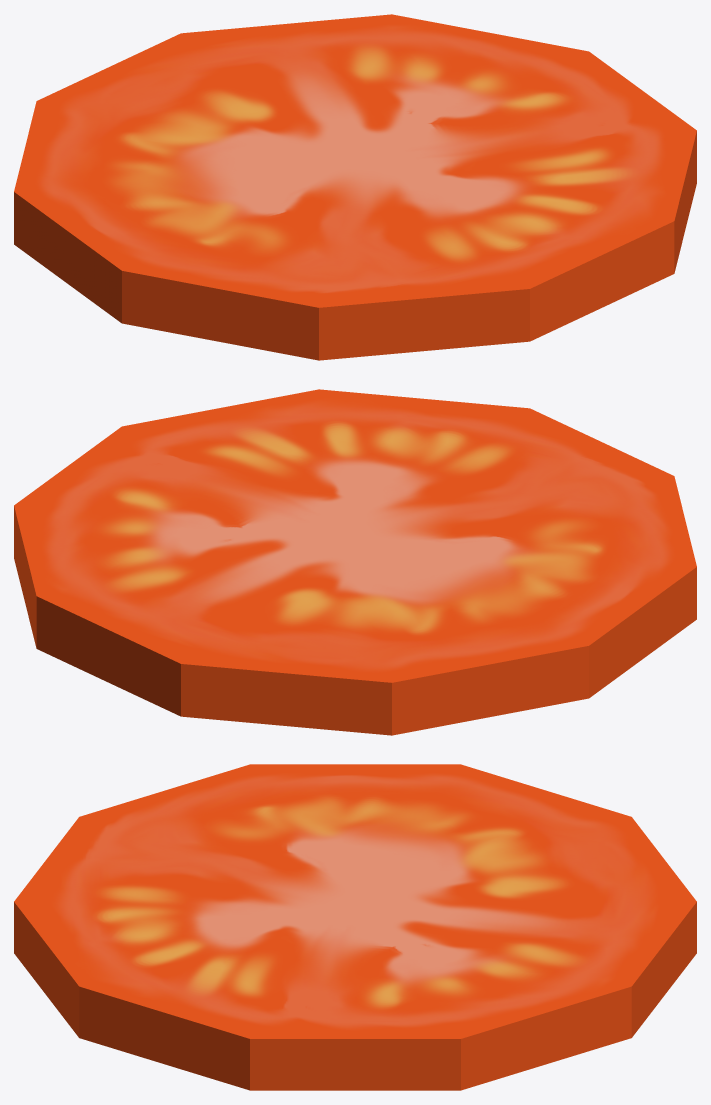
The model's file is tomato_slice_3d.glb.
The picture shows the model from 3 angles, top to bottom: view 1: azimuth 30°, elevation 25°; view 2: azimuth 150°, elevation 25°; view 3: azimuth 270°, elevation 25°; orthographic projection. The views are drawn at different scales.
Visible parts, largest first — view 1: Cylinder.002; view 2: Cylinder.002; view 3: Cylinder.002.
Part boxes in pixels (box(x1,y1,x2,y2)): Cylinder.002: box(14, 14, 696, 360); Cylinder.002: box(14, 389, 696, 735); Cylinder.002: box(14, 764, 696, 1090).
Bounding box in the file's own units: 0.5706 × 0.05 × 0.6.
1 material, 1 textured.
